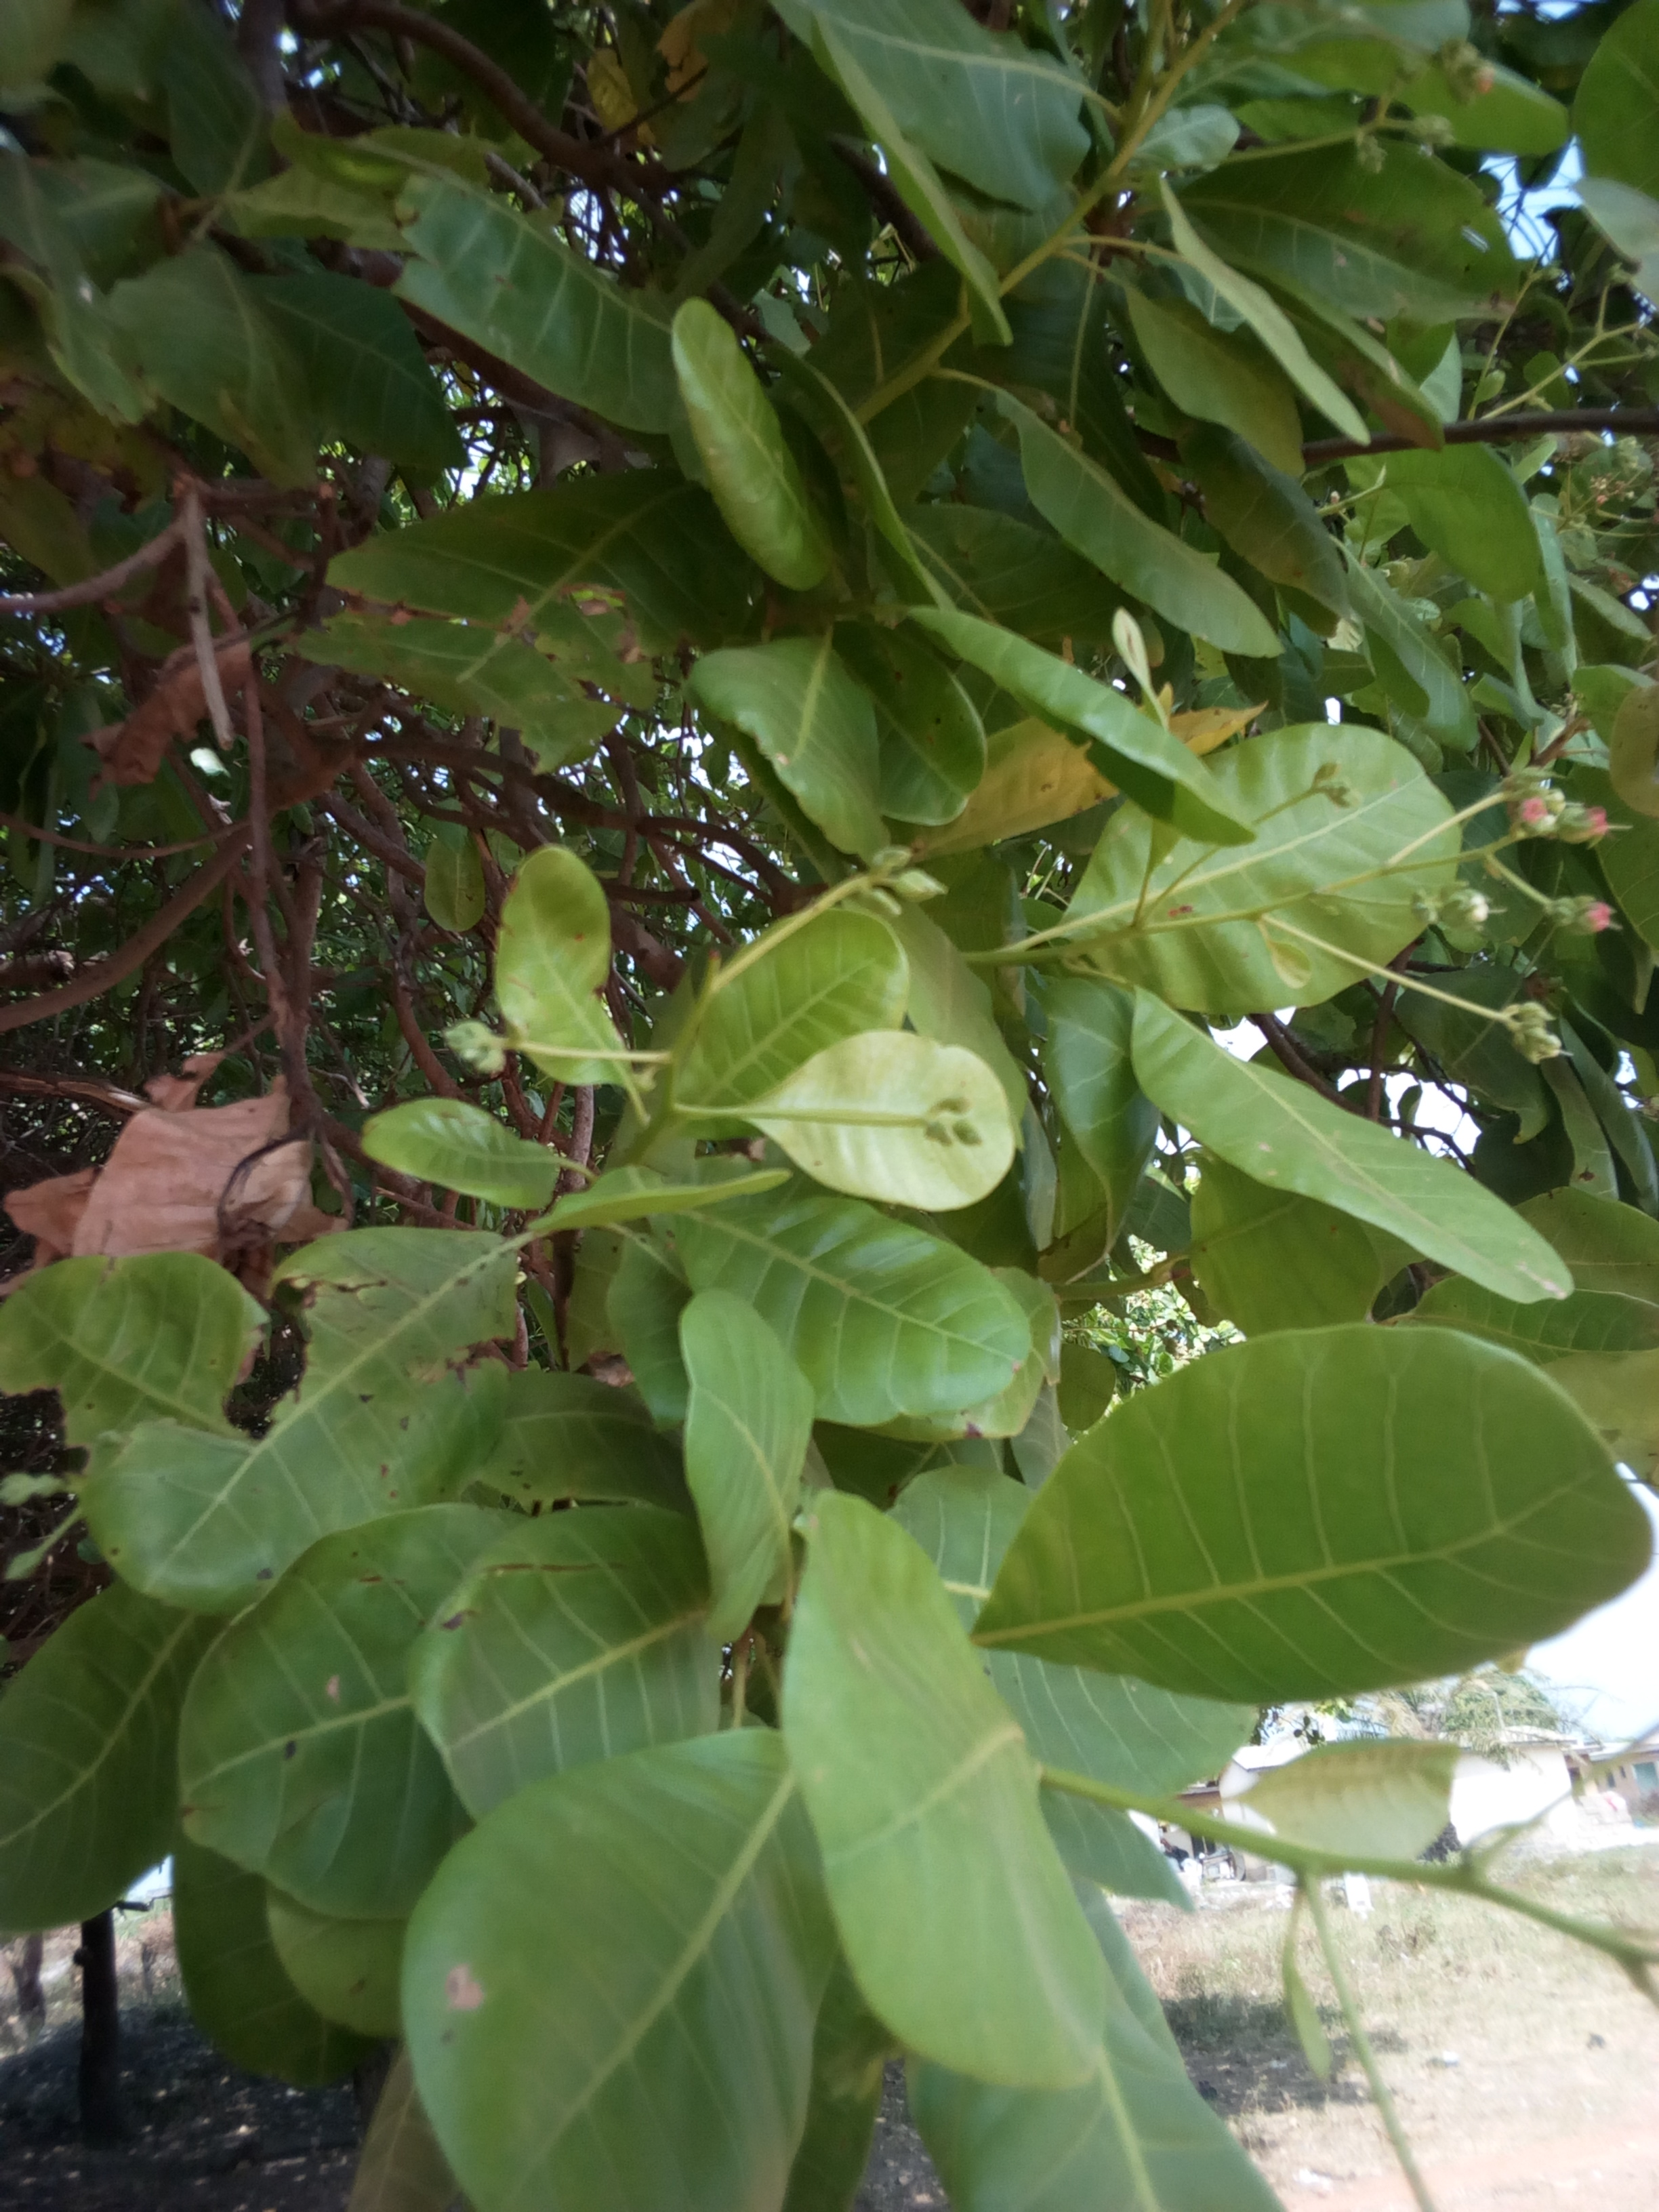Anoplocnemis curvipes: (115, 1221, 521, 1625), (305, 479, 687, 737), (389, 143, 521, 324)
